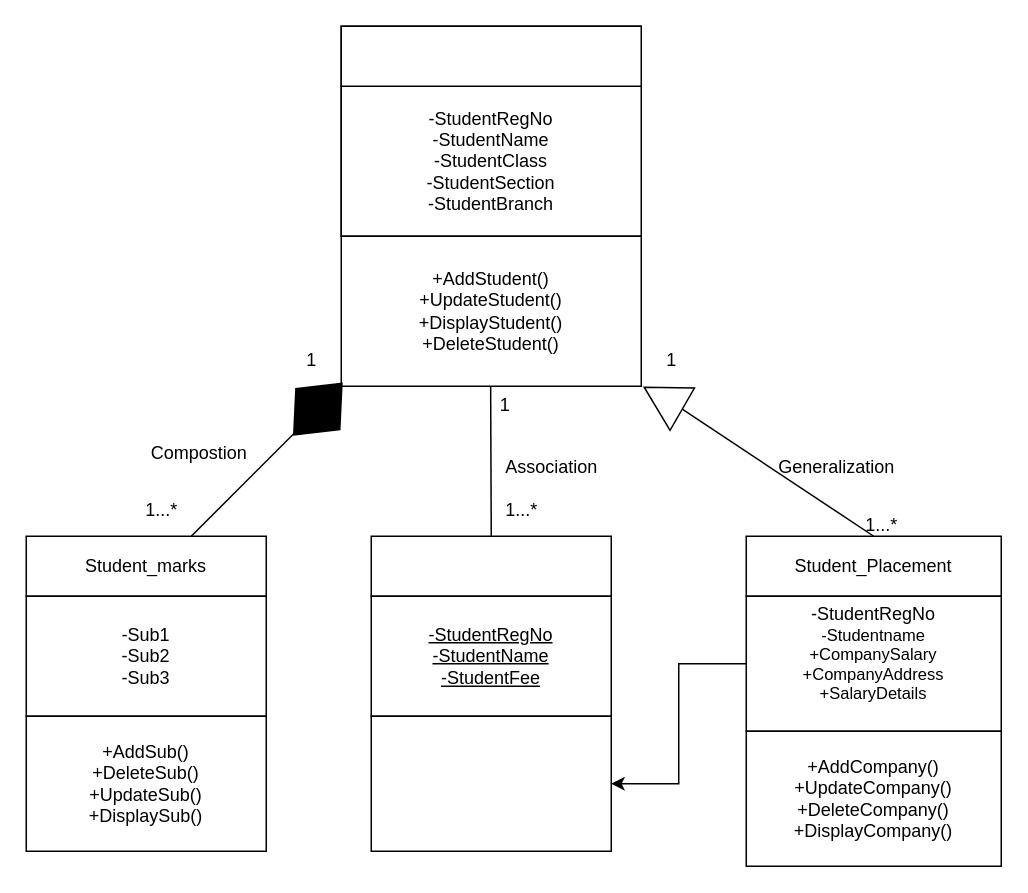
Image size: 1028x893. Some labels were removed from this diagram. The shapes that lost their labels are listed below. From the top down, each one's centre as x and y in pixels, then its label:
At [490,55]: "Student".
At [490,565]: "Student_Fee".
At [490,783]: "+Addpayment() +Updatepayment() +Deletepayment() +Cancelpayment()".
